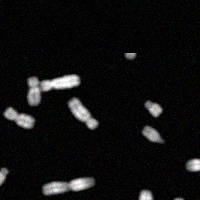chromosome: (41, 174, 95, 195), (69, 97, 98, 131), (40, 72, 80, 93), (3, 107, 34, 130), (141, 126, 165, 144), (26, 75, 40, 105), (143, 99, 163, 118), (186, 156, 200, 174), (135, 188, 152, 200), (0, 166, 8, 188), (171, 197, 186, 200)
